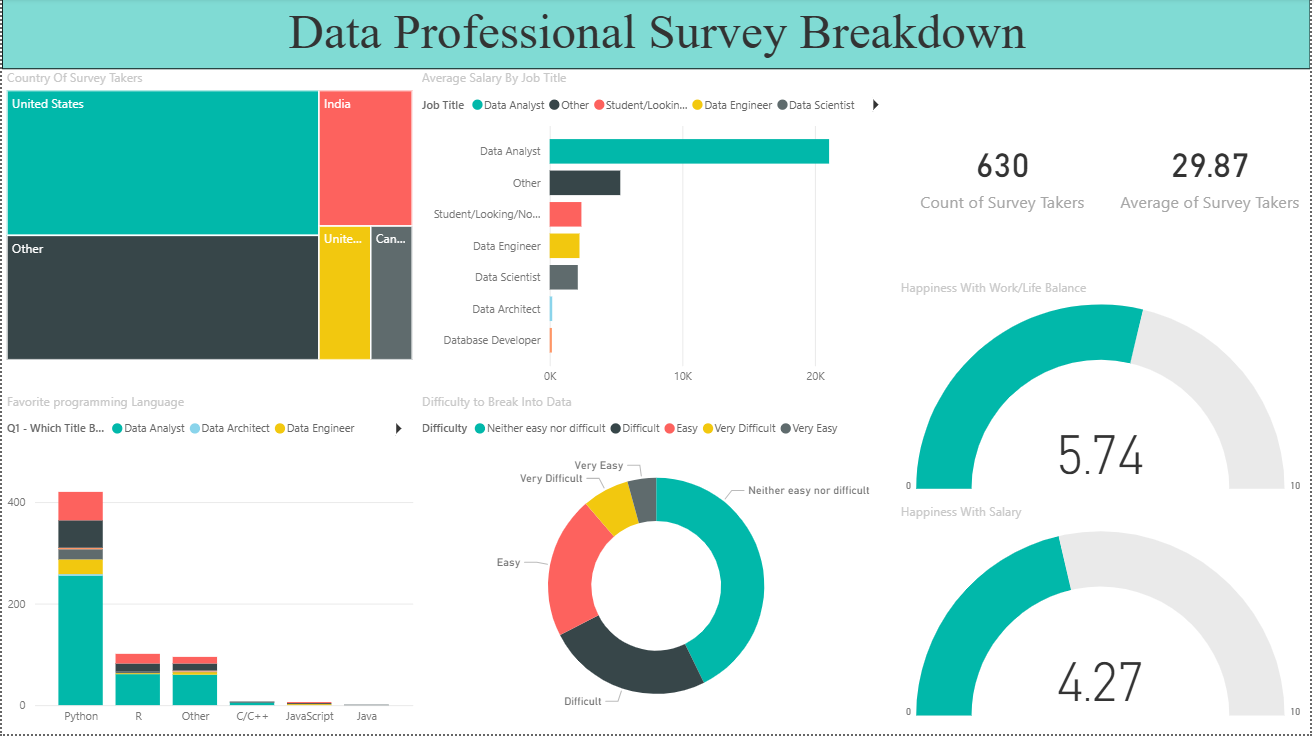

The dashboard page shown, as its layout file describes it:
{"tool":"powerbi","page":{"name":"Page 1","canvas":[1280,720],"ordinal":0},"visuals":[{"type":"textbox","box":[0,0,1280.3,69.4],"z":0},{"type":"card","fields":{"Values":["Count(Data Professional Survey.Unique ID)"]},"box":[874.3,69.7,209.1,205.4],"z":1000},{"type":"card","fields":{"Values":["Avg(Data Professional Survey.Q10 - Current Age)"]},"box":[1083.4,69.7,196.9,205.4],"z":2000},{"type":"barChart","title":"Average Salary By Job Title","fields":{"Category":["Data Professional Survey.Q1 - Which Title Best Fits your Current Role?.1"],"Y":["Sum(Data Professional Survey.Average Salarry)"],"Series":["Data Professional Survey.Q1 - Which Title Best Fits your Current Role?.1"]},"box":[406,69.7,468.3,316.7],"z":3000},{"type":"treemap","title":"Country Of Survey Takers","fields":{"Group":["Data Professional Survey.Q11 - Which Country do you live in?.1"],"Values":["CountNonNull(Data Professional Survey.Q11 - Which Country do you live in?.1)"]},"box":[0,69.4,406.5,289.3],"z":4000},{"type":"gauge","title":"Happiness With Work/Life Balance","fields":{"Y":["Avg(Data Professional Survey.Q6 - How Happy are you in your Current Position with the following? (Work/Life Balance))"],"MinValue":["Min(Data Professional Survey.Q6 - How Happy are you in your Current Position with the following? (Work/Life Balance))"],"MaxValue":["Max(Data Professional Survey.Q6 - How Happy are you in your Current Position with the following? (Work/Life Balance))"]},"box":[874.3,275.1,406,218.9],"z":5000},{"type":"gauge","title":"Happiness With Salary","fields":{"Y":["Avg(Data Professional Survey.Q6 - How Happy are you in your Current Position with the following? (Salary))"],"MinValue":["Min(Data Professional Survey.Q6 - How Happy are you in your Current Position with the following? (Salary))"],"MaxValue":["Max(Data Professional Survey.Q6 - How Happy are you in your Current Position with the following? (Salary))"]},"box":[874.3,494,406,225],"z":6000},{"type":"donutChart","title":"Difficulty to Break Into Data","fields":{"Category":["Data Professional Survey.Q7 - How difficult was it for you to break into Data?"],"Y":["CountNonNull(Data Professional Survey.Q7 - How difficult was it for you to break into Data?)"]},"box":[406,386.4,468.3,333.8],"z":7000},{"type":"columnChart","title":"Favorite programming Language","fields":{"Category":["Data Professional Survey.Q5 - Favorite Programming Language.1"],"Y":["CountNonNull(Data Professional Survey.Unique ID)"],"Series":["Data Professional Survey.Q1 - Which Title Best Fits your Current Role?.1"]},"box":[0,387,407,333],"z":8000}]}

Visuals, with their boxes in screenshot pixels (x1, y1, x2, y2), scaled from the page's 1280x720 canvas onto the 1314x737 screenshot:
textbox: [0, 0, 1313, 71]
card - Count(Data Professional Survey.Unique ID): [898, 71, 1112, 282]
card - Avg(Data Professional Survey.Q10 - Current Age): [1112, 71, 1313, 282]
"Average Salary By Job Title" barChart: [417, 71, 898, 396]
"Country Of Survey Takers" treemap: [0, 71, 417, 367]
"Happiness With Work/Life Balance" gauge: [898, 282, 1313, 506]
"Happiness With Salary" gauge: [898, 506, 1313, 736]
"Difficulty to Break Into Data" donutChart: [417, 396, 898, 736]
"Favorite programming Language" columnChart: [0, 396, 418, 736]
